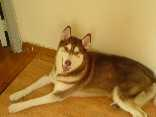dog: (7, 25, 155, 116)
